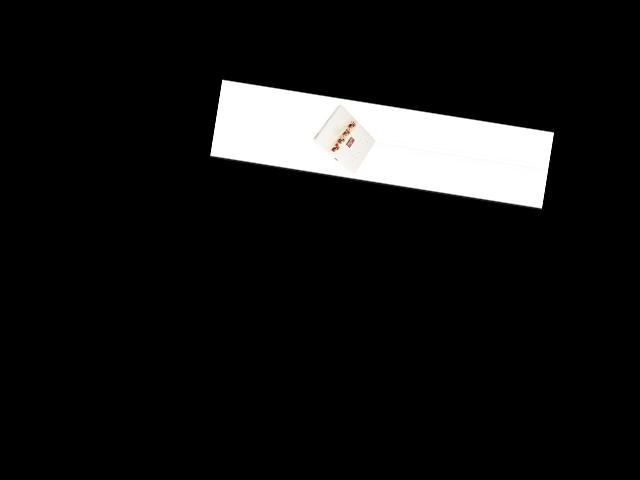chocolate: (307, 96, 380, 175)
